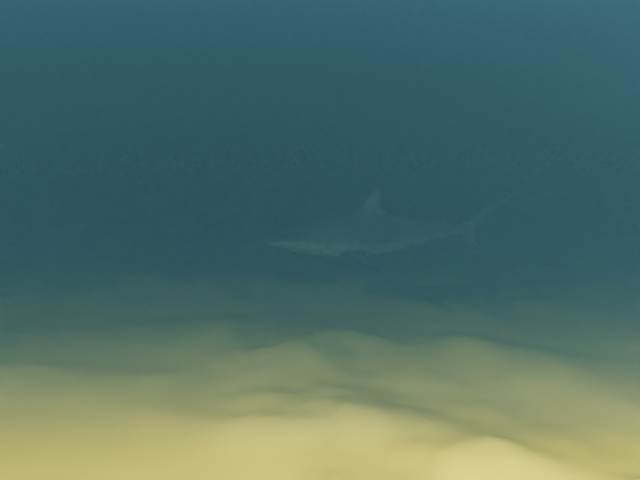Carribean Shark.001: (266, 184, 521, 272)
